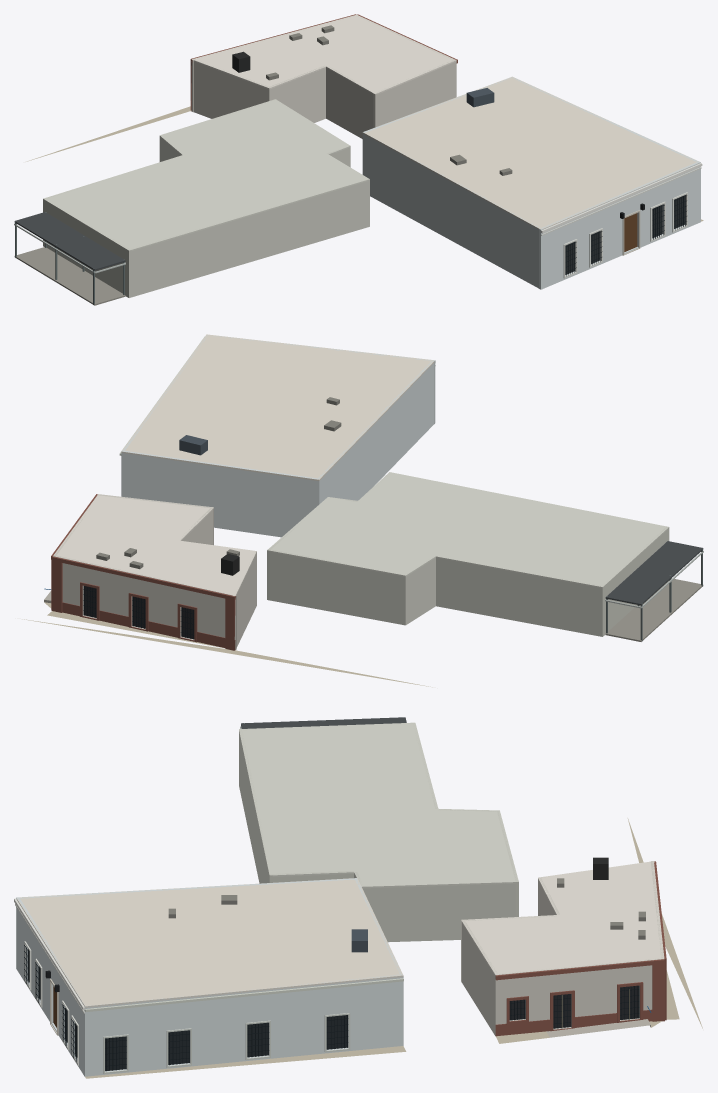
3 renders of one model, top to bottom at view 1: azimuth 30°, elevation 25°; view 2: azimuth 150°, elevation 25°; view 3: azimuth 270°, elevation 25°, orthographic. The views are drawn at different scales.
Parts seen in each view (by area): view 1: edificio; view 2: edificio; view 3: edificio.
Part boxes in pixels (x1=…): edificio: x1=14, y1=14, x2=703, y2=305; edificio: x1=22, y1=334, x2=703, y2=687; edificio: x1=14, y1=717, x2=702, y2=1078.
Bounding box in the file's own units: 51.26 × 6.15 × 46.76.
